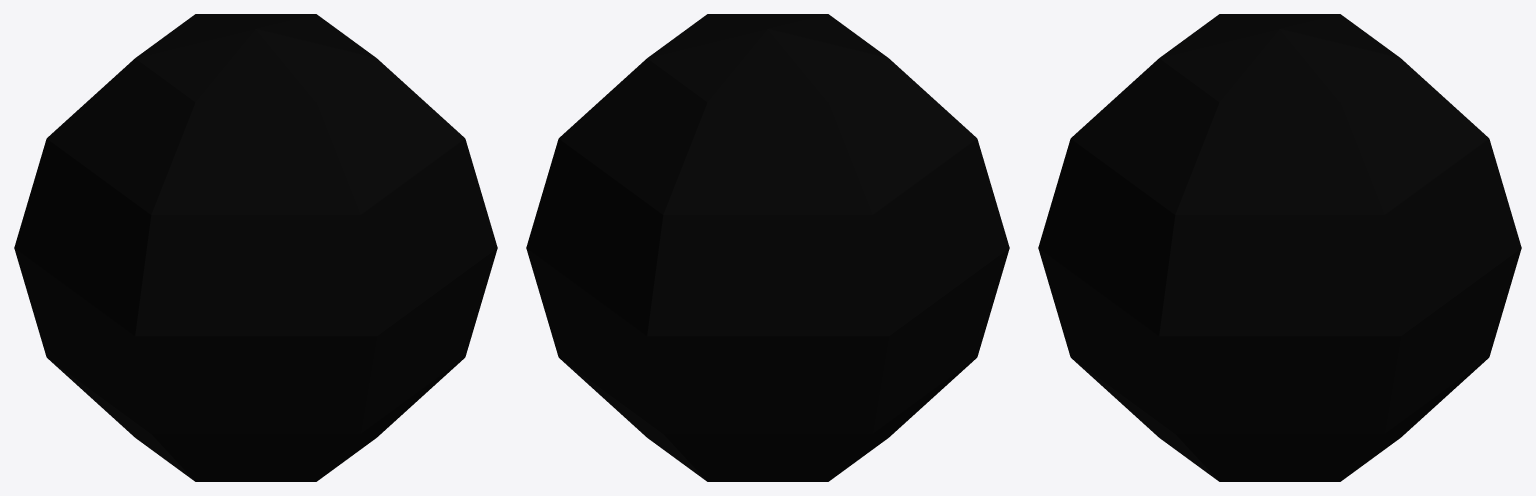
Rendered from Bullet canon.fbx.
The picture shows the model from 3 angles, left to right: view 1: azimuth 30°, elevation 25°; view 2: azimuth 150°, elevation 25°; view 3: azimuth 270°, elevation 25°; orthographic projection.
Parts seen in each view (by area): view 1: Sphere; view 2: Sphere; view 3: Sphere.
Boxes of the visible parts, box(x1,y1,x2,y2) form: Sphere: box(14, 14, 497, 481); Sphere: box(526, 14, 1009, 481); Sphere: box(1038, 14, 1521, 481).
Bounding box in the file's own units: 49.47 × 57.13 × 57.13.
